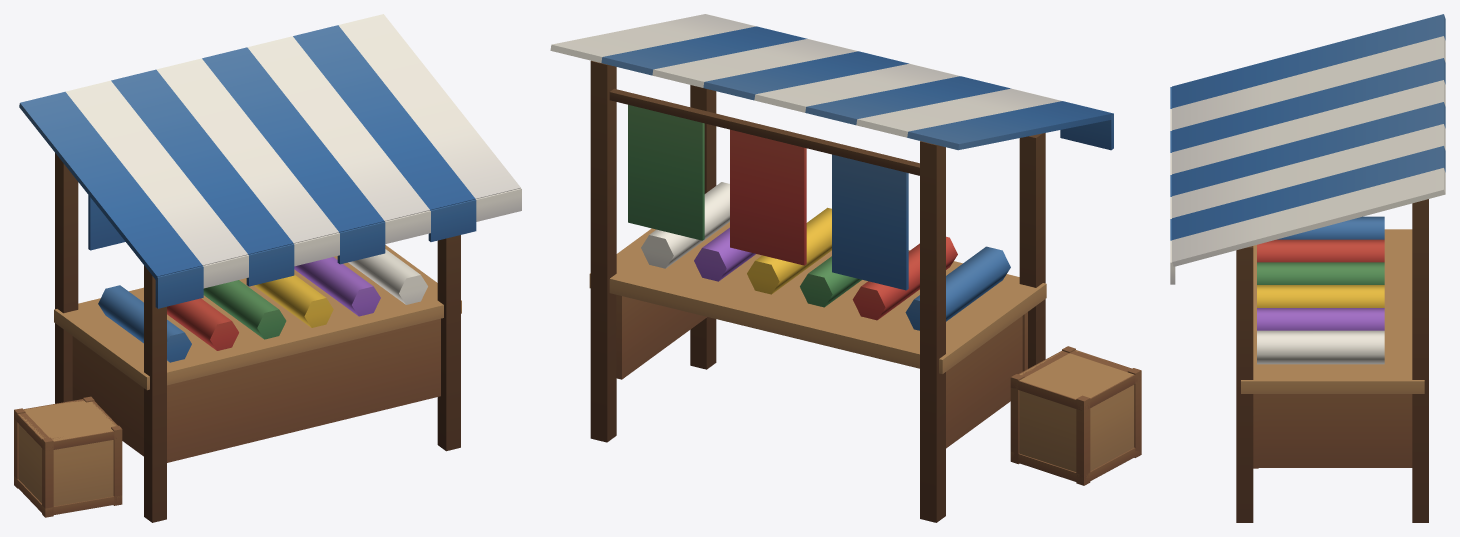
File: market_stall_cloth.glb
The picture shows the model from 3 angles, left to right: view 1: azimuth 30°, elevation 25°; view 2: azimuth 150°, elevation 25°; view 3: azimuth 270°, elevation 25°; orthographic projection. The views are drawn at different scales.
Visible parts, largest first — view 1: market_stall_cloth; view 2: market_stall_cloth; view 3: market_stall_cloth.
Boxes of the visible parts, box(x1,y1,x2,y2) form: market_stall_cloth: box(14, 14, 521, 522); market_stall_cloth: box(550, 14, 1141, 522); market_stall_cloth: box(1170, 14, 1445, 522).
Bounding box in the file's own units: 12.36 × 9.57 × 6.88.
1 material, 1 textured.
